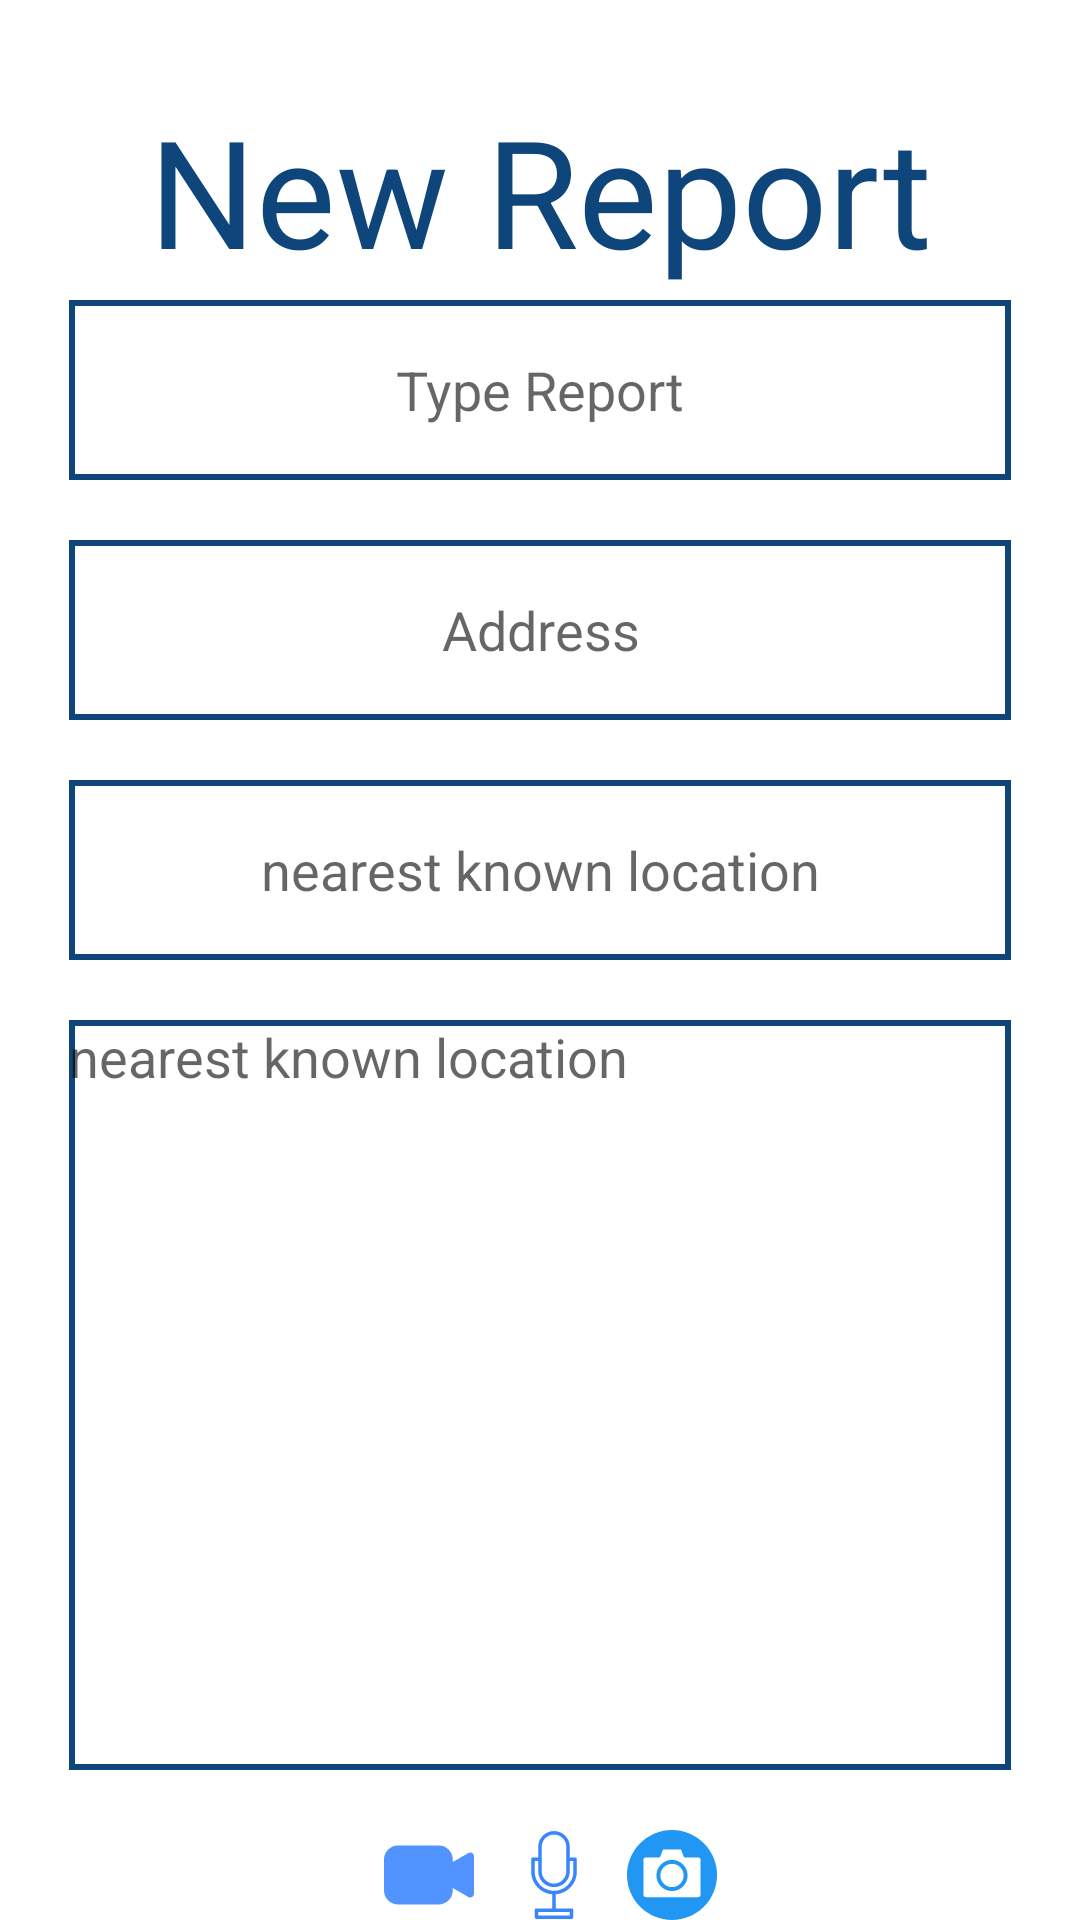

Where icons sit on this 1080w x 1920h app screen, as (x1=x1, y1=y1, x2=x2, y2=y2):
camera: (x1=627, y1=1830, x2=717, y2=1920)
microphone: (x1=531, y1=1831, x2=577, y2=1919)
video camera: (x1=384, y1=1845, x2=474, y2=1905)
